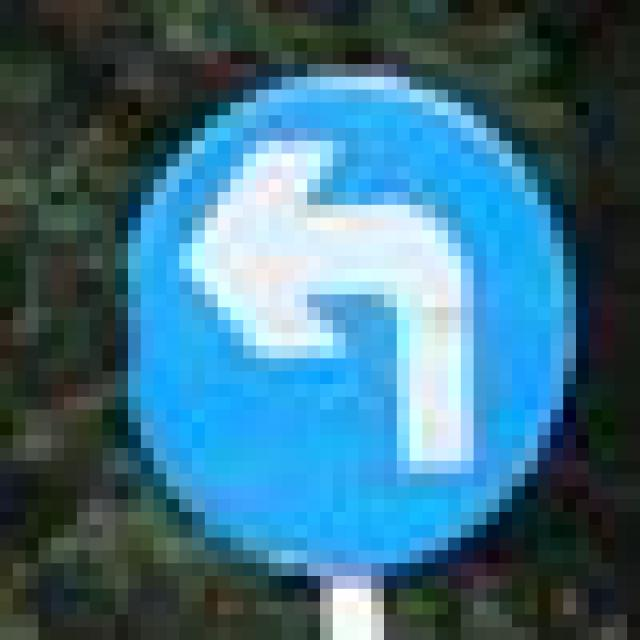COMPULSARY_TURN_LEFT: (102, 64, 564, 563)
